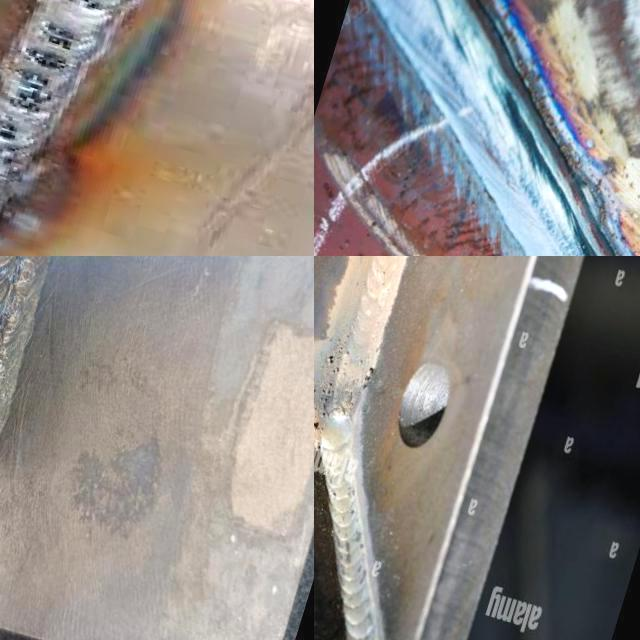defect: (4, 60, 62, 117), (22, 44, 75, 77), (37, 20, 77, 55), (314, 381, 337, 419), (68, 0, 106, 16), (0, 119, 23, 144), (4, 296, 25, 323), (13, 264, 34, 287), (365, 366, 377, 380), (323, 354, 334, 369), (342, 350, 351, 362), (331, 367, 341, 376)
